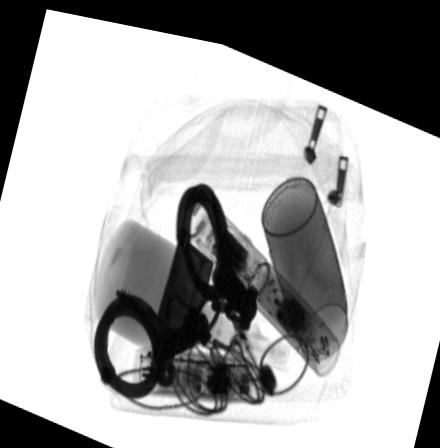Baton: (190, 197, 339, 361)
HandCuffs: (93, 171, 256, 393)
Lighter: (155, 228, 213, 342)
